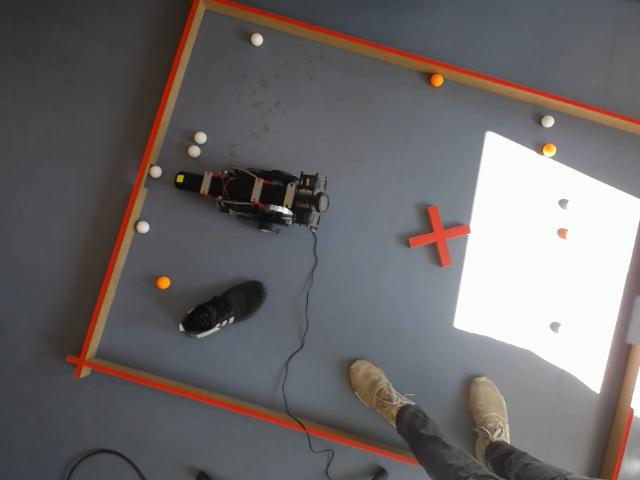orange: (542, 143, 557, 157), (156, 276, 171, 289), (430, 73, 443, 87)
robot: (174, 168, 329, 234)
robot-front: (175, 172, 201, 192)
white: (541, 114, 555, 128), (251, 32, 264, 47), (187, 145, 201, 158), (194, 131, 207, 145), (136, 221, 150, 234), (149, 165, 162, 178)
